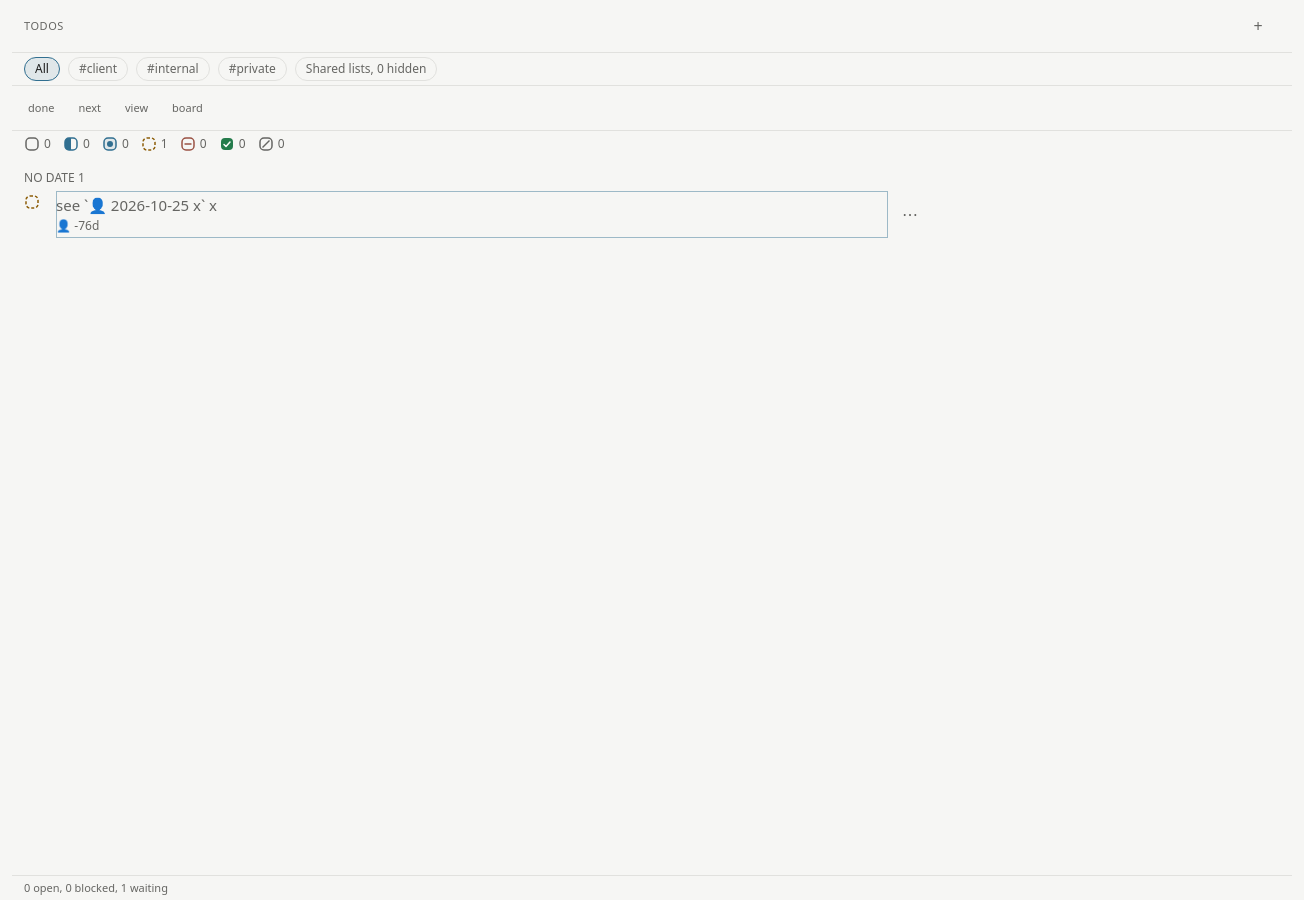
it: #1018 the name place with vim off and by touch › #1018 I4 by touch, edit on a waiting row past a code span puts the cursor after the stamp
Click the button "⋯": (910, 214) [888,191,932,238]
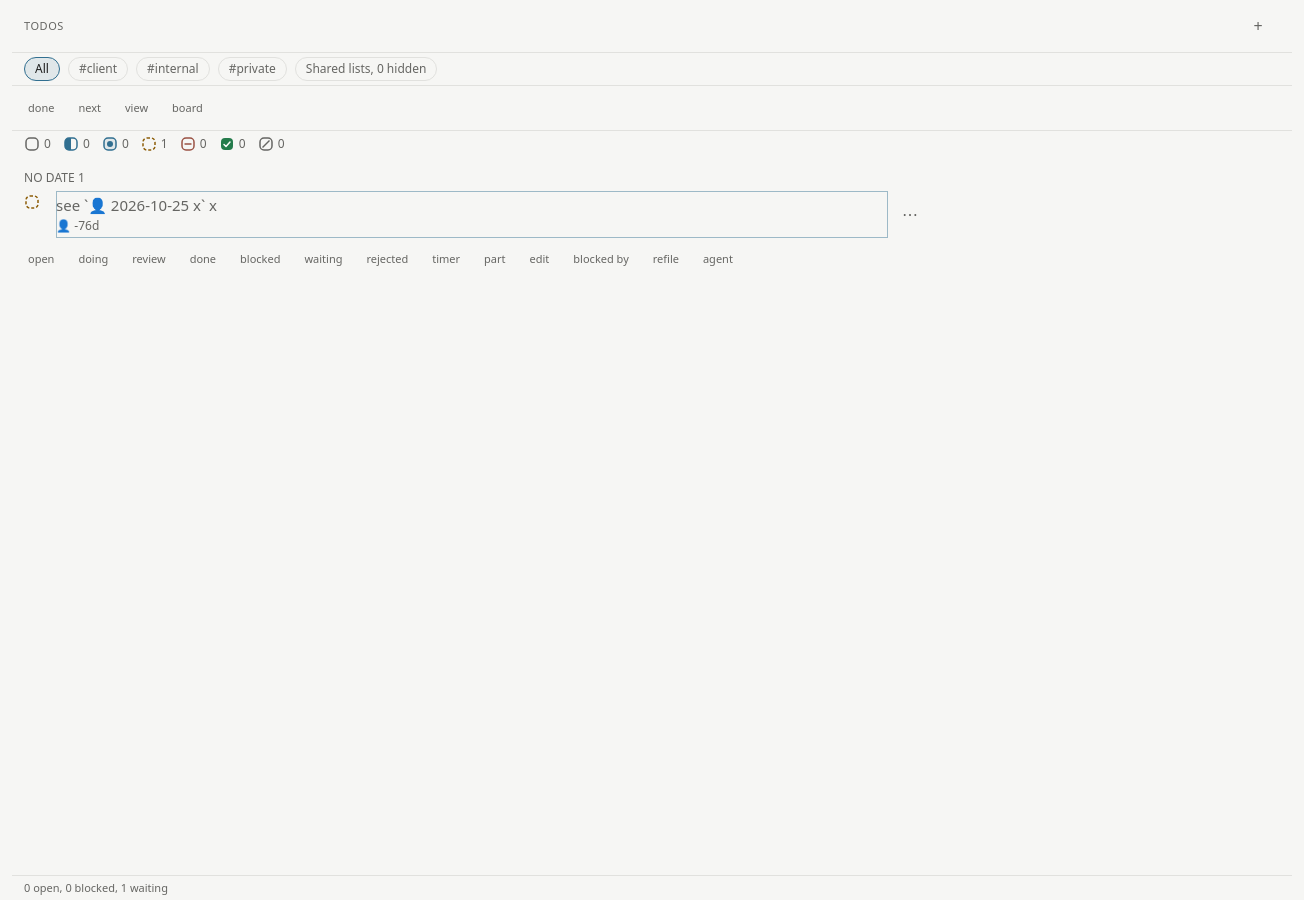
Click the button "edit": (540, 260) [518,238,561,282]
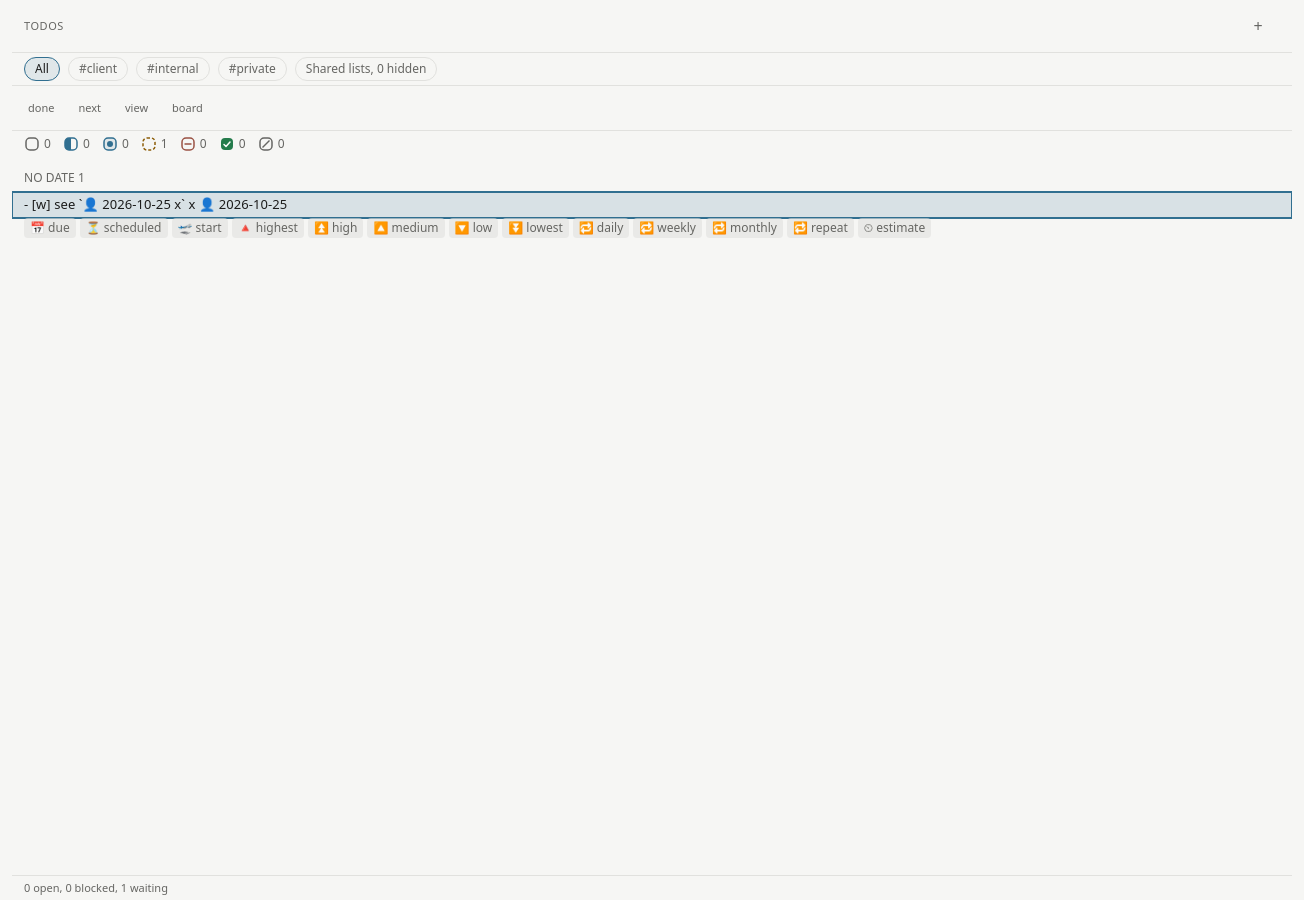
Check: the field named "edit line" holds "- [w] see `👤 2026-10-25 x` x 👤 2026-10-25", box [12,192,1292,218]
